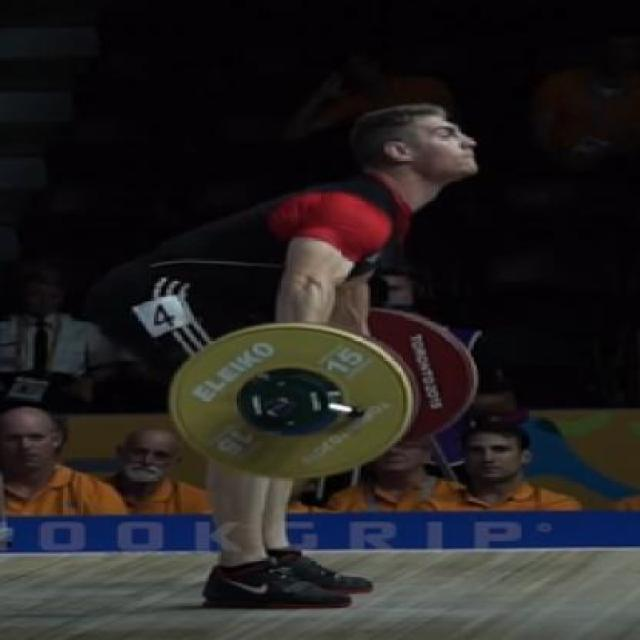barbell: (163, 318, 420, 481)
